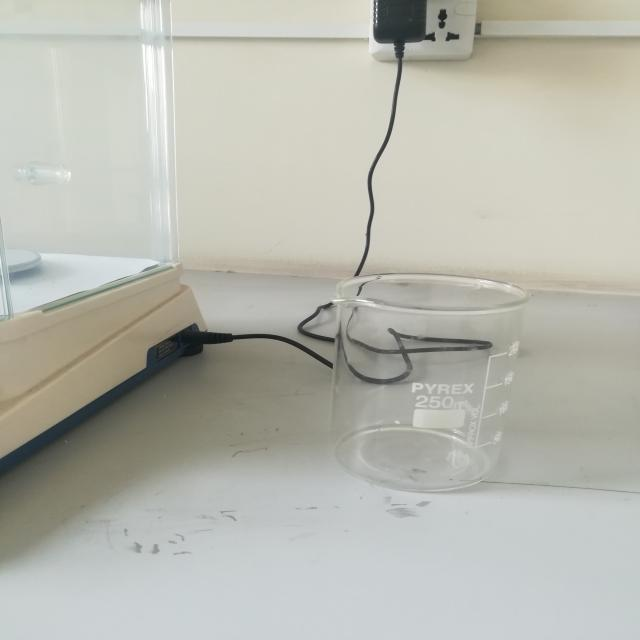Beaker: (290, 225, 560, 512)
